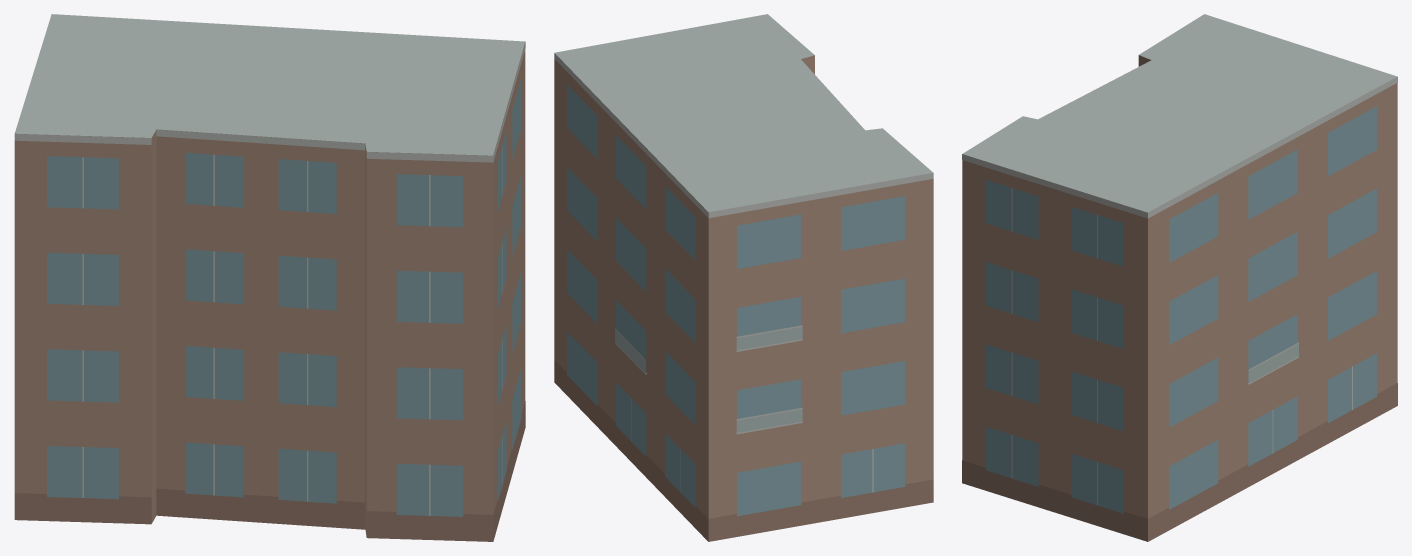
Rendered from survey-upis-32973174.glb.
3 views of the same model, side by side, from view 1: azimuth 30°, elevation 25°; view 2: azimuth 150°, elevation 25°; view 3: azimuth 270°, elevation 25° (orthographic). The views are drawn at different scales.
Parts seen in each view (by area): view 1: survey-upis-32973174.tmp; view 2: survey-upis-32973174.tmp; view 3: survey-upis-32973174.tmp.
Part boxes in pixels (x1,y1,x2,y2): survey-upis-32973174.tmp: (14,14,525,541); survey-upis-32973174.tmp: (554,14,933,541); survey-upis-32973174.tmp: (962,14,1397,541).
Bounding box in the file's own units: 17.48 × 13.5 × 16.2.
